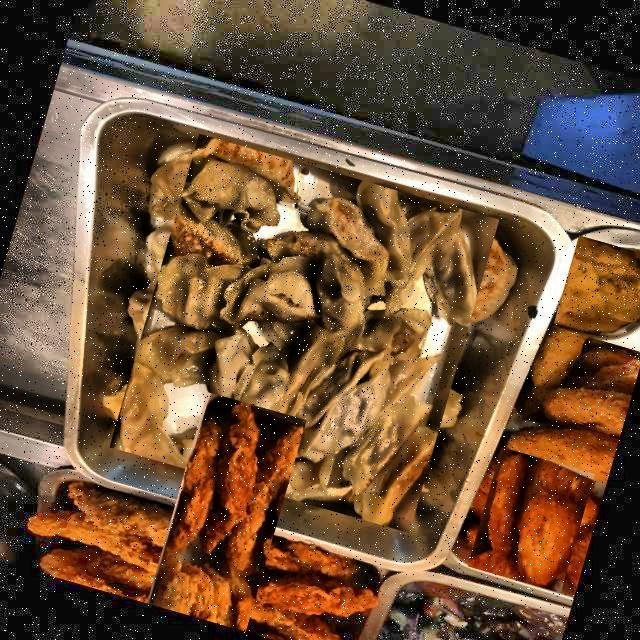Food: (106, 136, 500, 531), (90, 432, 346, 640), (462, 452, 600, 588), (552, 235, 640, 353)
